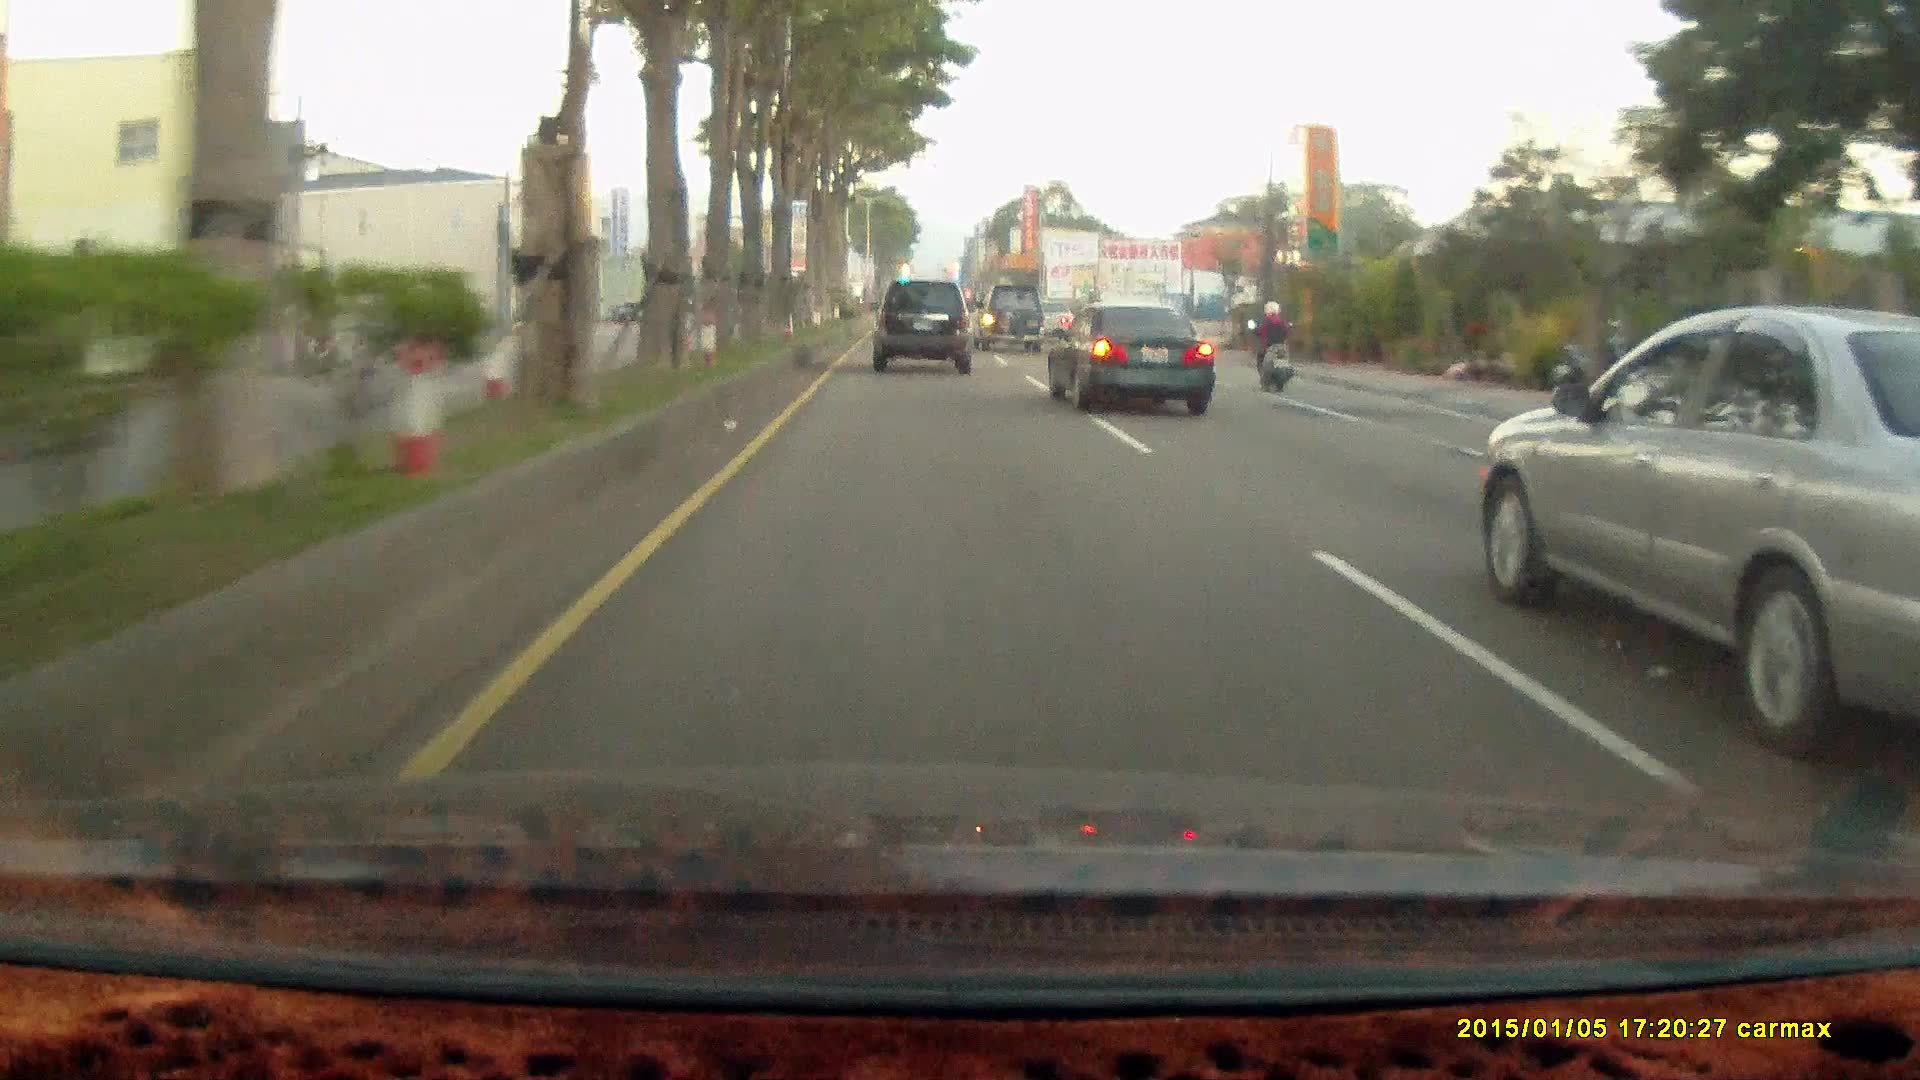rider: (1237, 289, 1308, 408), (1242, 295, 1297, 389)
vehicle: (1466, 295, 1916, 751), (1042, 298, 1218, 413), (1043, 299, 1213, 415), (870, 277, 976, 376), (869, 282, 971, 369), (972, 282, 1046, 353), (970, 280, 1043, 351)
